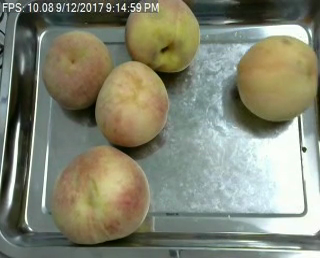Peach: (50, 144, 150, 245), (236, 34, 318, 122), (95, 61, 169, 147), (40, 29, 114, 111), (124, 0, 201, 73)
